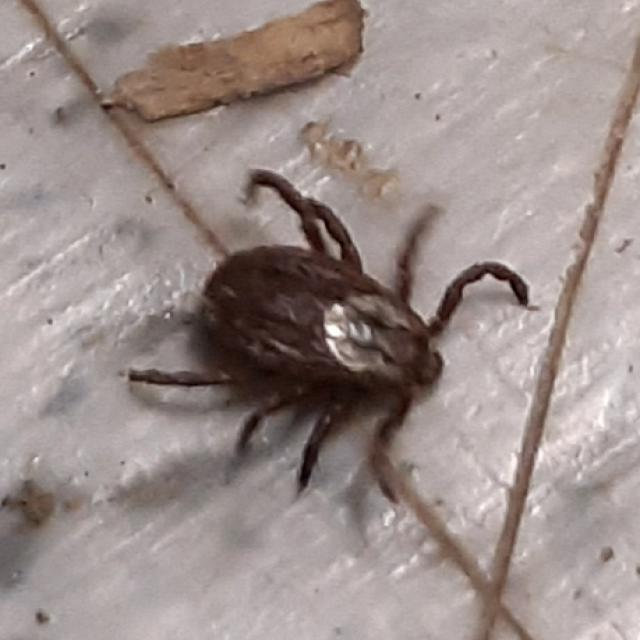Dermacentor Reticulatus-F: (125, 169, 528, 506)
